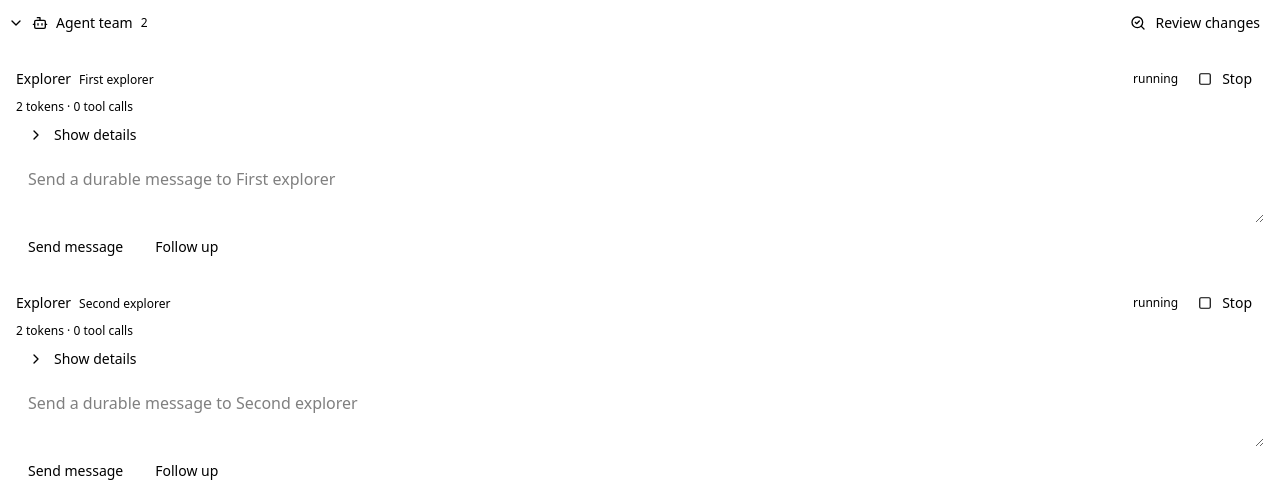
Test case: SubagentTeamCard › keeps unrelated child controls enabled while one row is pending
What coordinates should you click on to do the following:
click the button with aria-label "Stop explorer First explorer"
I would click on:
 (1225, 79)
Its box is [1186, 63, 1264, 95].
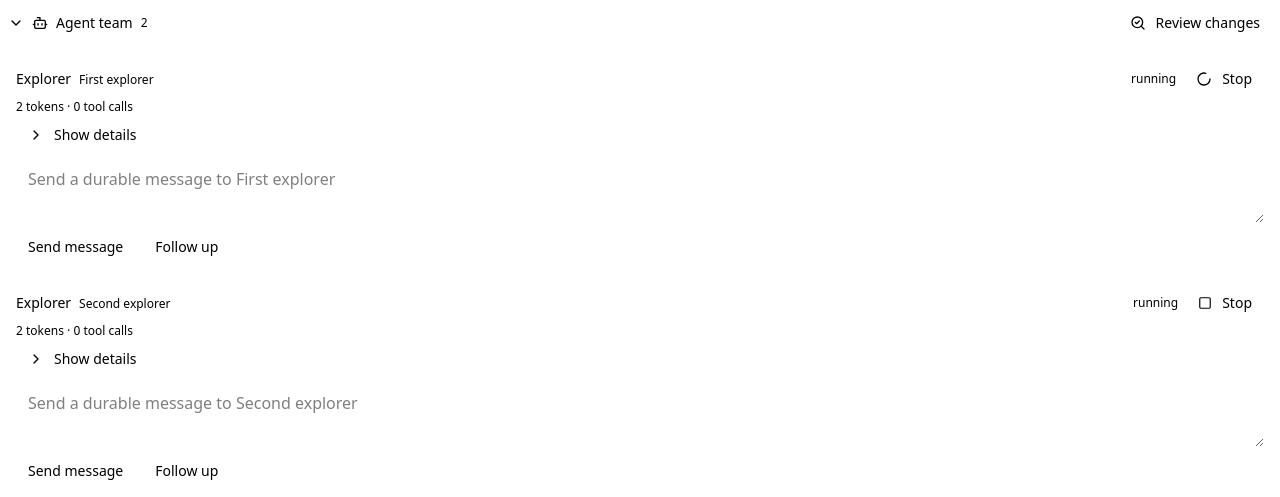
Expected: the button with aria-label "Stop explorer Second explorer" is enabled, [1186, 287, 1264, 319]
Expected: the button with aria-label "Stop explorer First explorer" is disabled, [1184, 63, 1264, 95]
